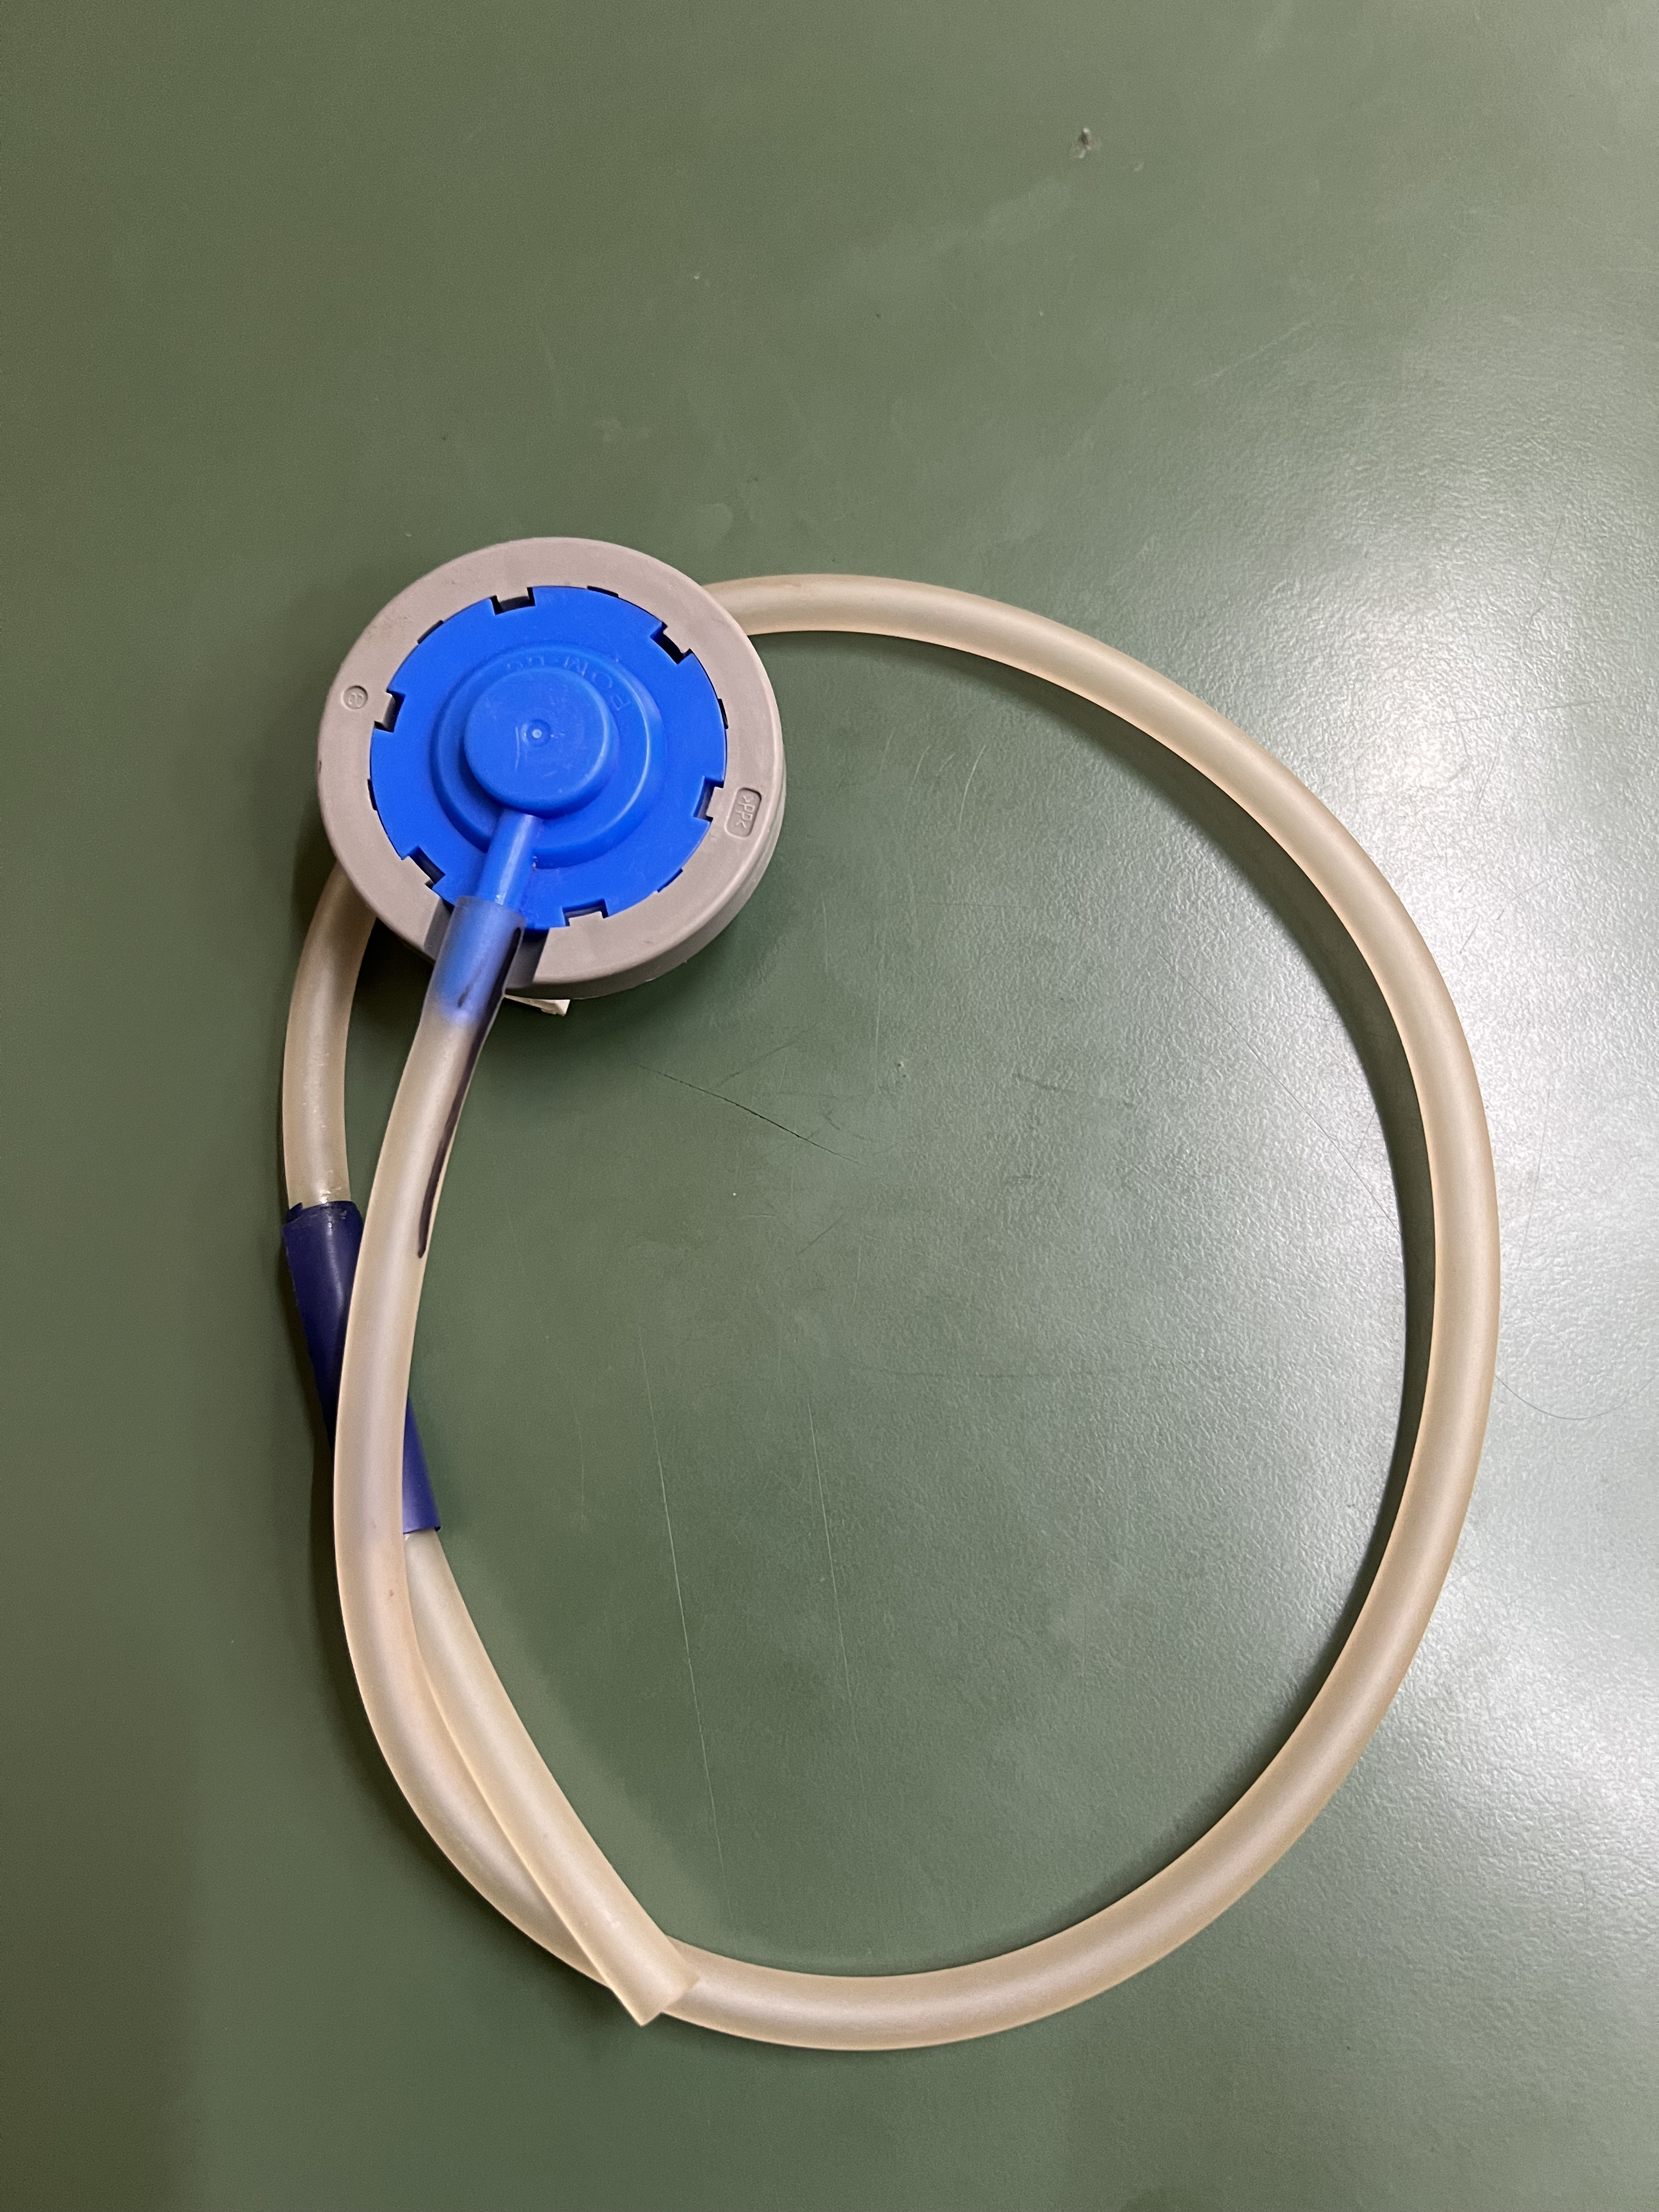pressure_sensor: (223, 507, 1507, 2059)
